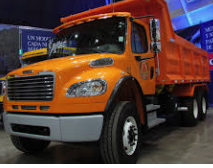truck: (1, 1, 211, 162)
